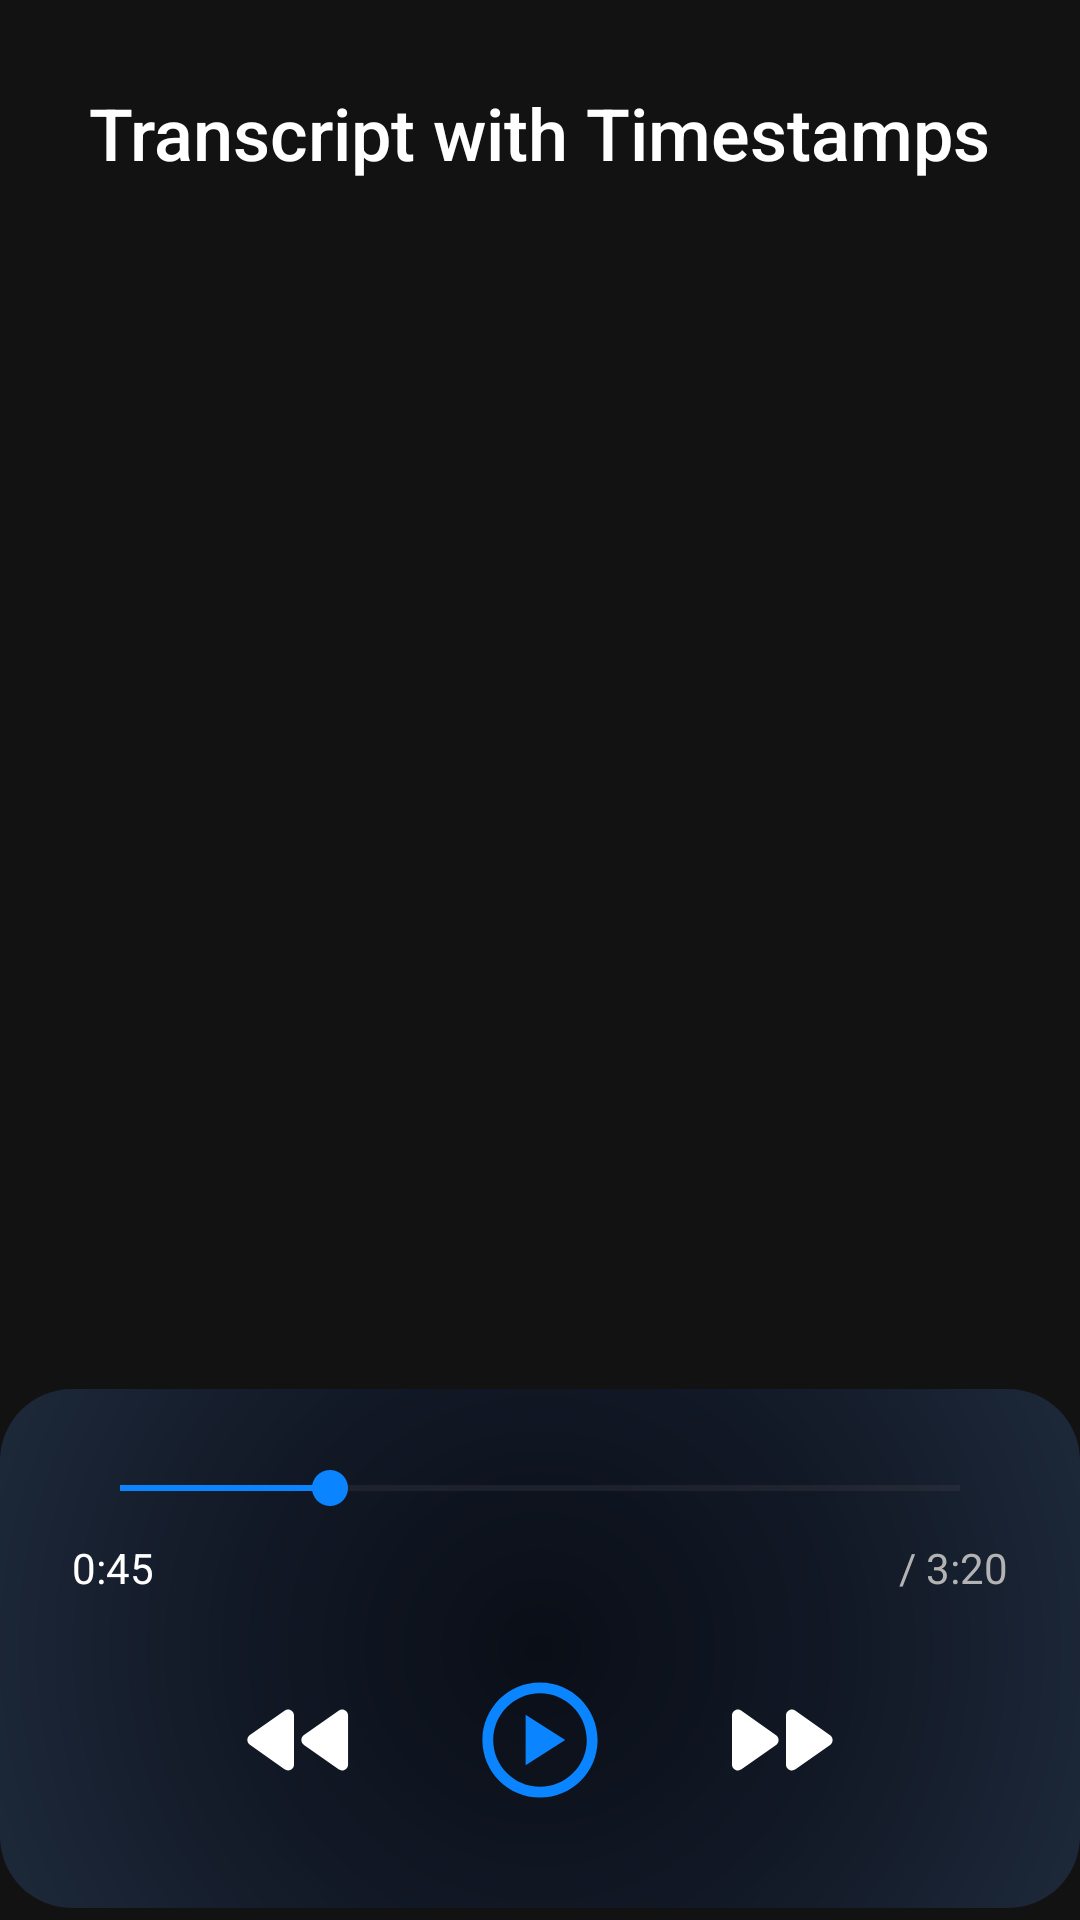

Icons on this 1080px x 1920px Android screen, each with its box as (x1, y1, x2, y2):
fast forward: (732, 1709, 833, 1771)
play circle: (482, 1682, 598, 1798)
rewind: (247, 1709, 348, 1771)
